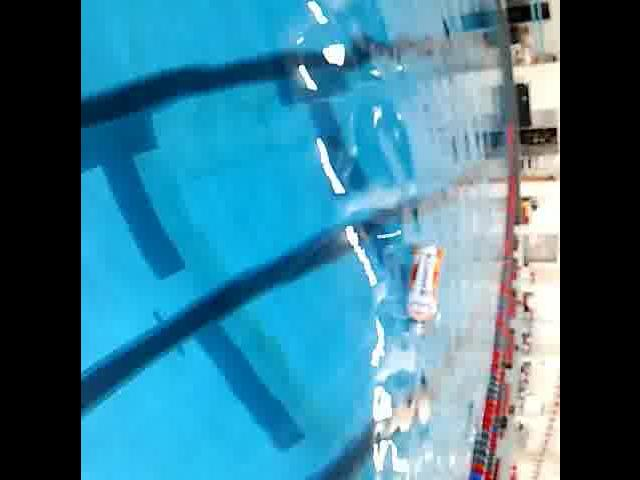Bottle: (400, 229, 448, 345)
